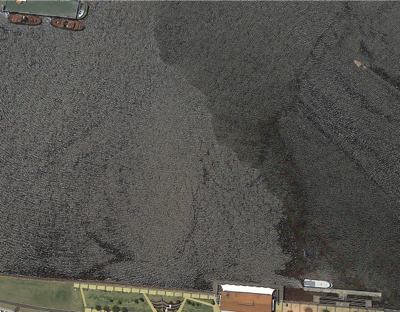boat: (51, 18, 86, 32), (8, 14, 43, 26), (304, 279, 334, 289), (354, 60, 367, 70)
